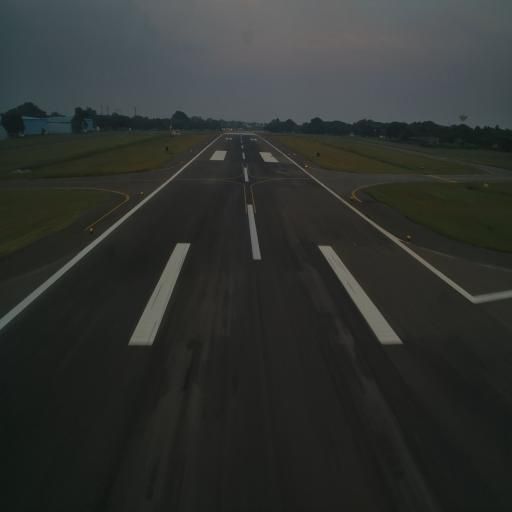on: (88, 223, 94, 234), (406, 233, 412, 242), (349, 194, 354, 202), (140, 188, 144, 196)
